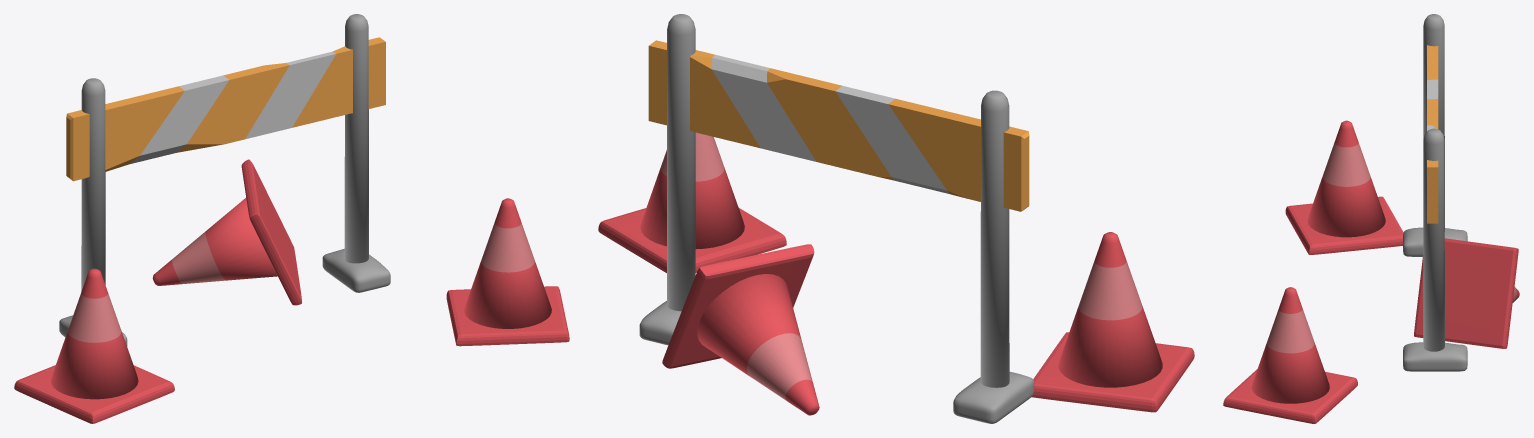
The model's file is panneau_travaux_and_plots.glb.
3 renders of one model, left to right at view 1: azimuth 30°, elevation 25°; view 2: azimuth 150°, elevation 25°; view 3: azimuth 270°, elevation 25°, orthographic. The views are drawn at different scales.
Parts seen in each view (by area): view 1: Cube.042; view 2: Cube.042; view 3: Cube.042.
Boxes of the visible parts, x1=… form: Cube.042: x1=14, y1=14, x2=569, y2=423; Cube.042: x1=598, y1=14, x2=1194, y2=423; Cube.042: x1=1223, y1=14, x2=1519, y2=423.
Size of the model in its own units: 9.18 by 4.58 by 5.21.
10 materials, 1 textured.
